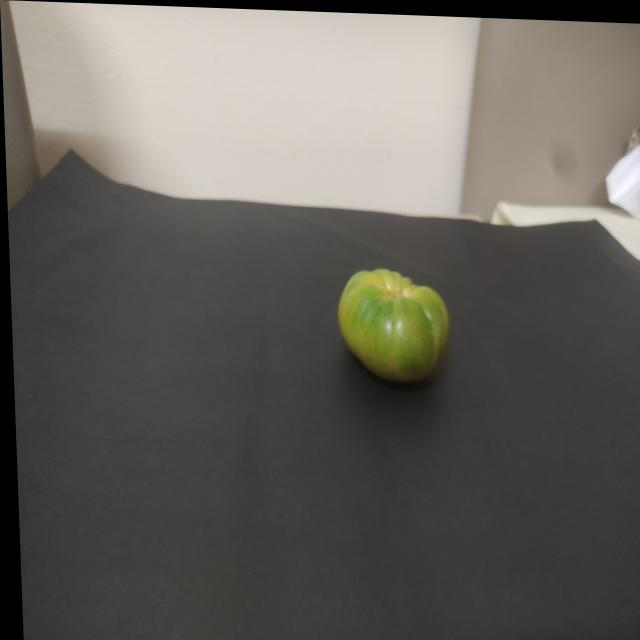yesil: (328, 245, 471, 399)
